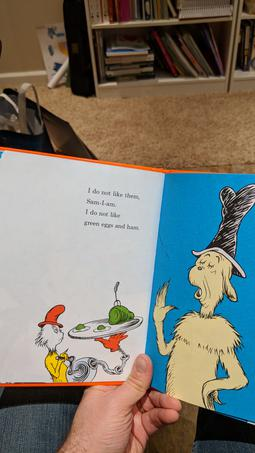text block: (80, 179, 144, 235)
